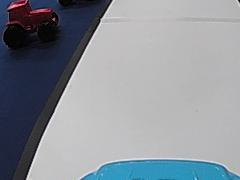Tracktor: (2, 0, 61, 47)
